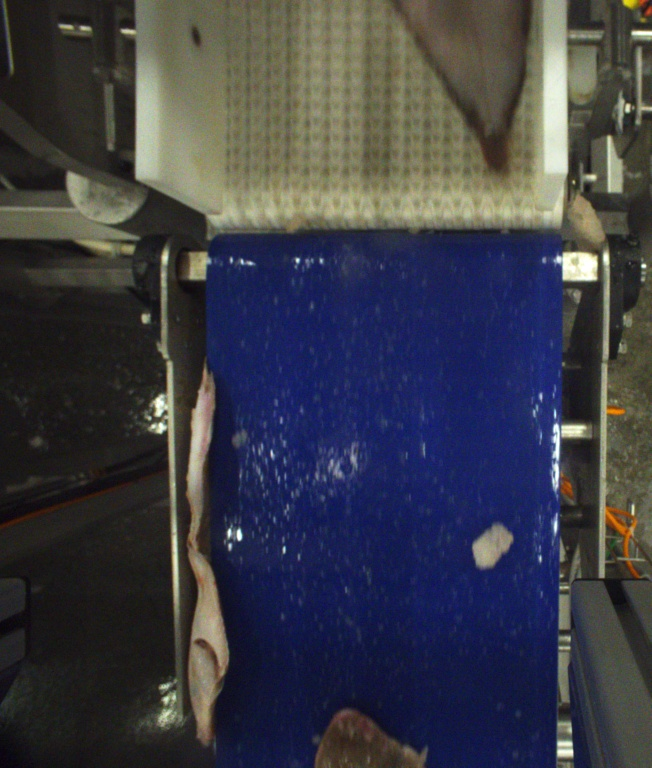SOL: (314, 702, 429, 768)
